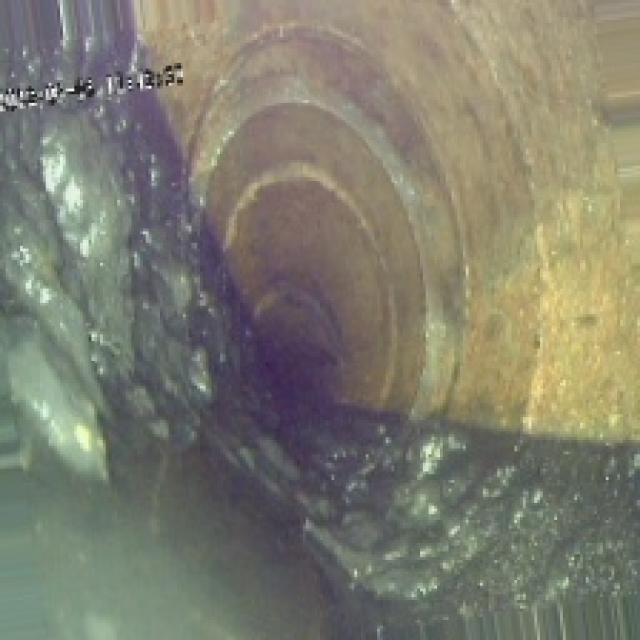sluge accumulation: (31, 114, 503, 632)
